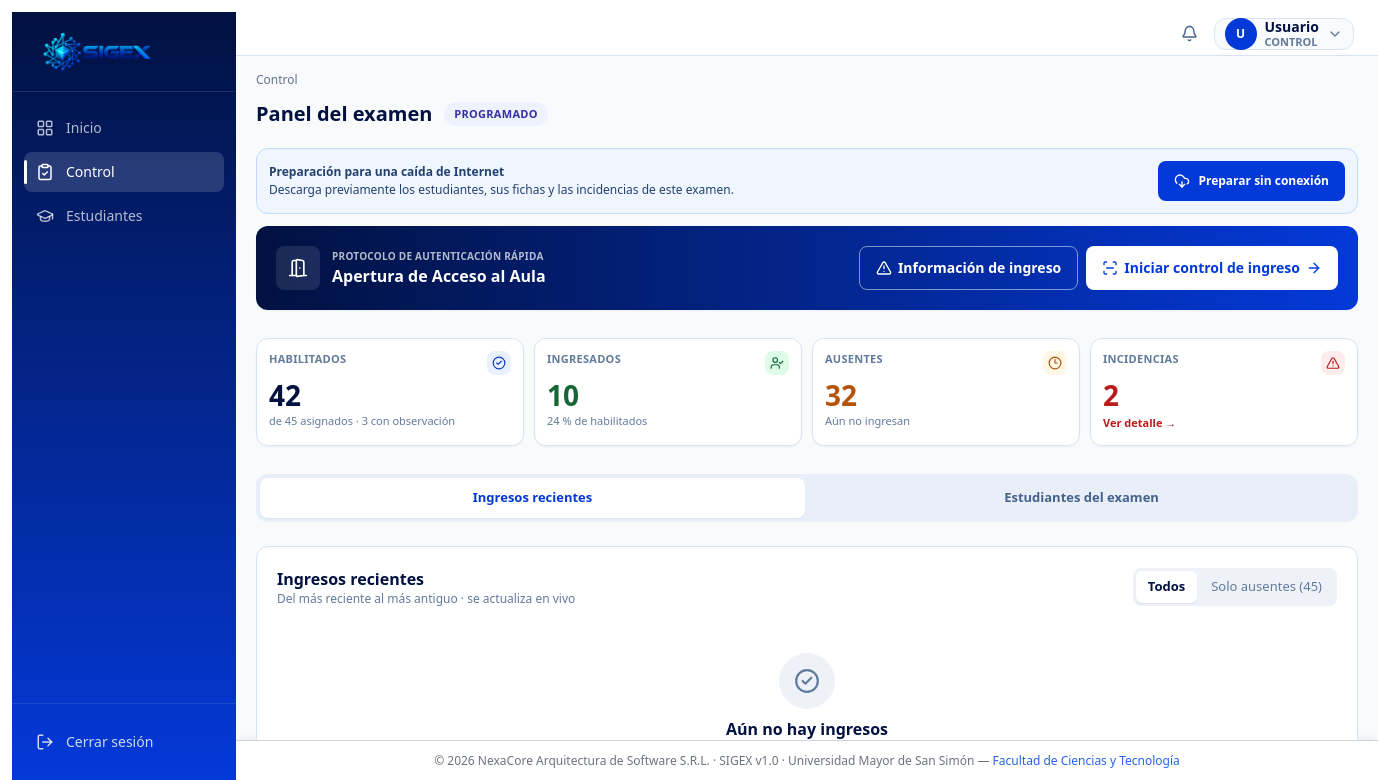
Test: ControlExamenPage › quita la página previa al fallar y anuncia la carga al reintentar hasta el estado vacío
Step 1. Click the tab "Estudiantes del examen" → {"x": 1082, "y": 498}, box [809, 478, 1354, 518]
(page scrolled)
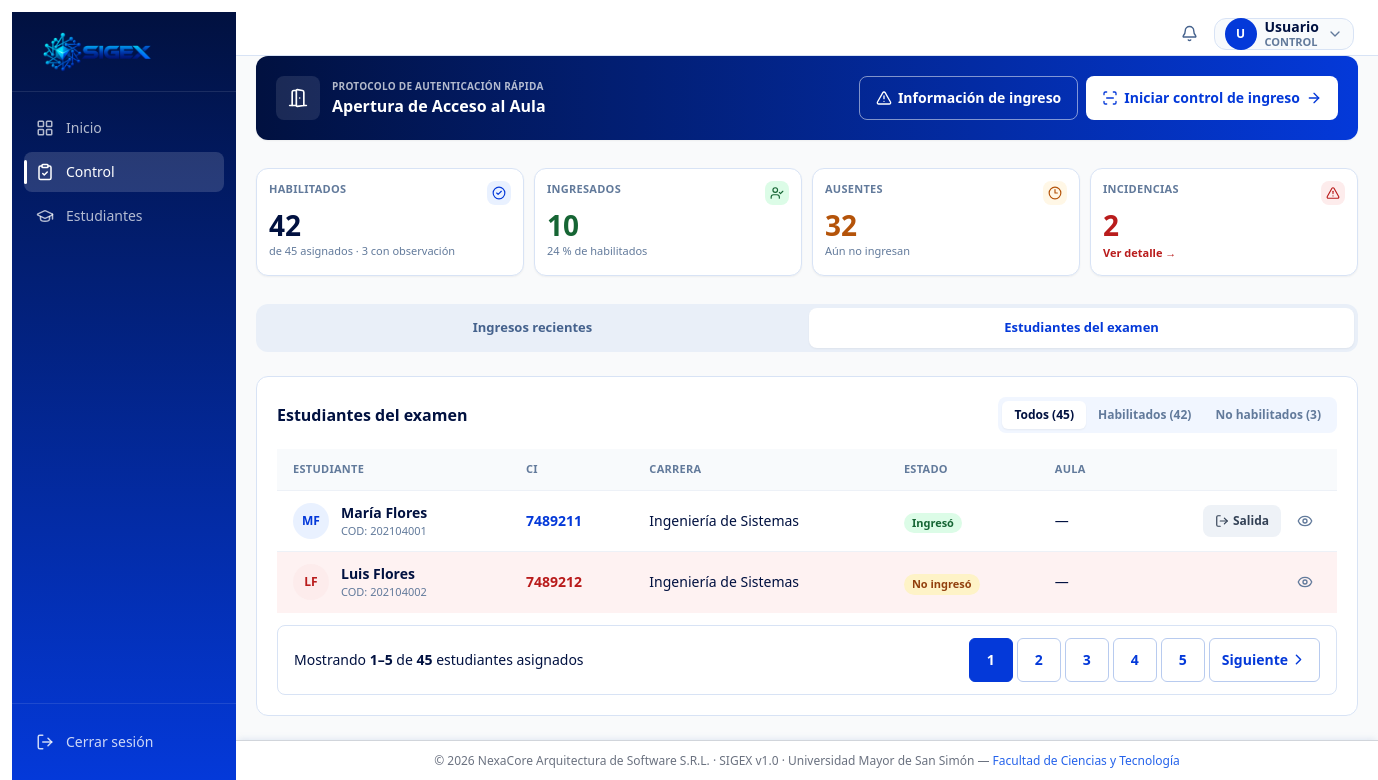
Step 2. Click the button with aria-label "Página siguiente" → {"x": 1264, "y": 660}, box [1209, 638, 1320, 682]
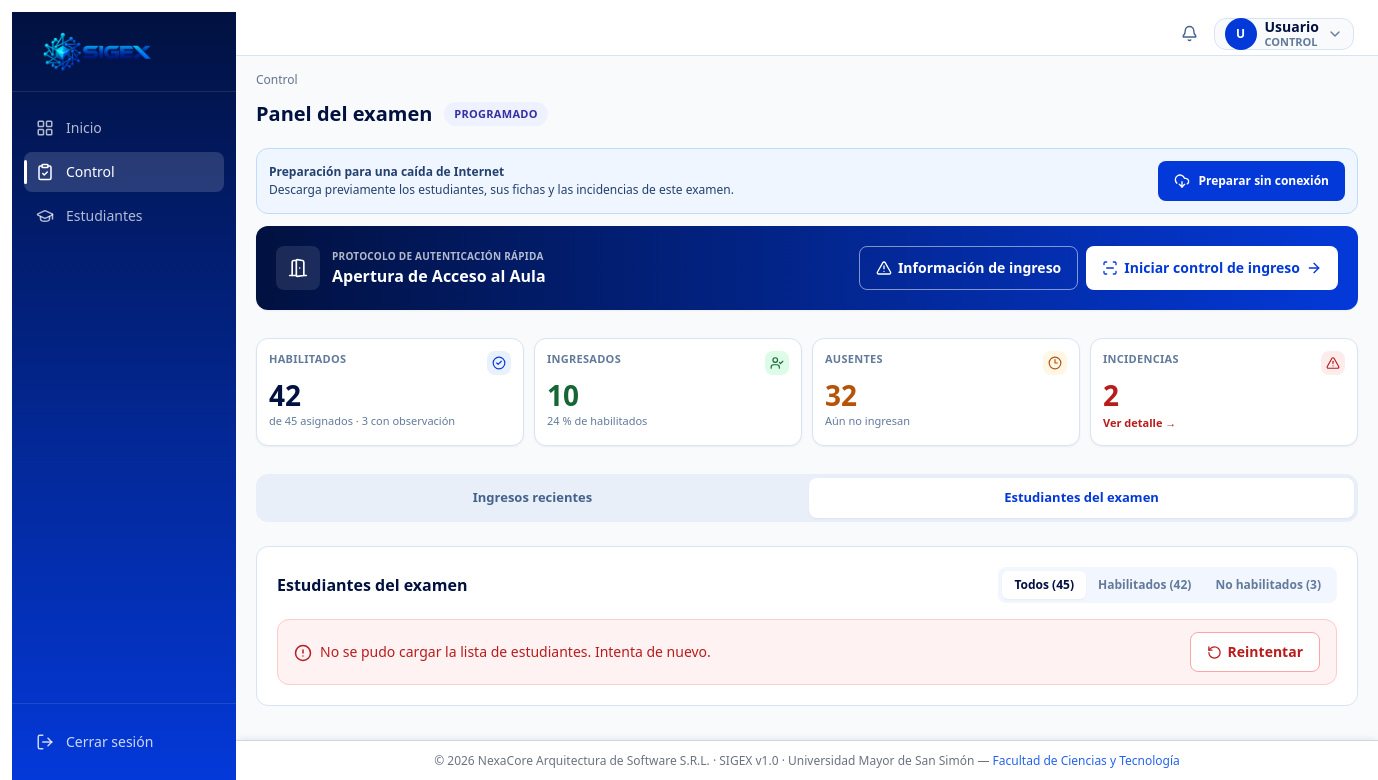
Expected: the message shows "No se pudo cargar la lista", [320, 642, 711, 661]
Expected: the table is gone
Step 3. Click the button "Reintentar" → {"x": 1255, "y": 652}, box [1190, 632, 1320, 672]
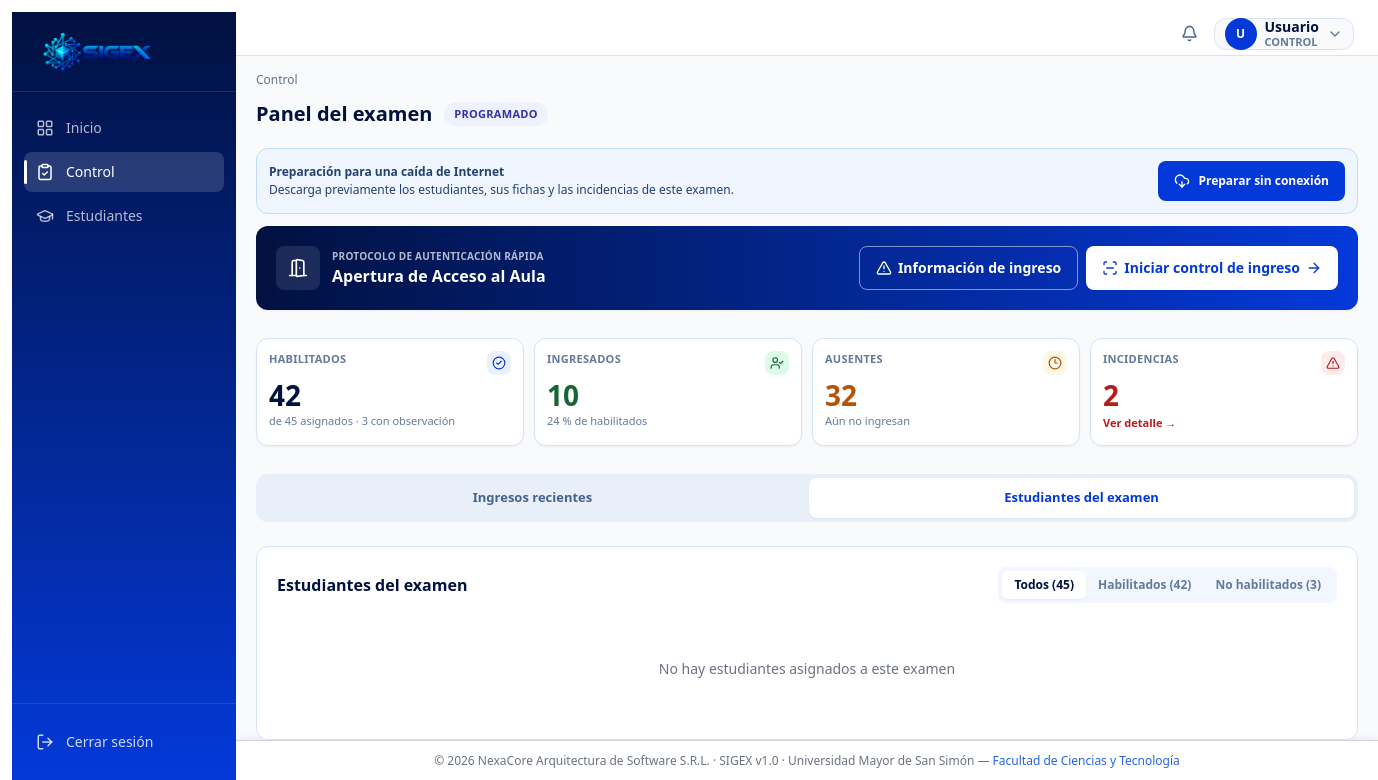
Expected: the text "No hay estudiantes asignados a este examen" is shown, [659, 659, 955, 678]
Expected: the message "No se pudo cargar la lista de estudiantes. Intenta de nuevo. Reintentar" is gone
